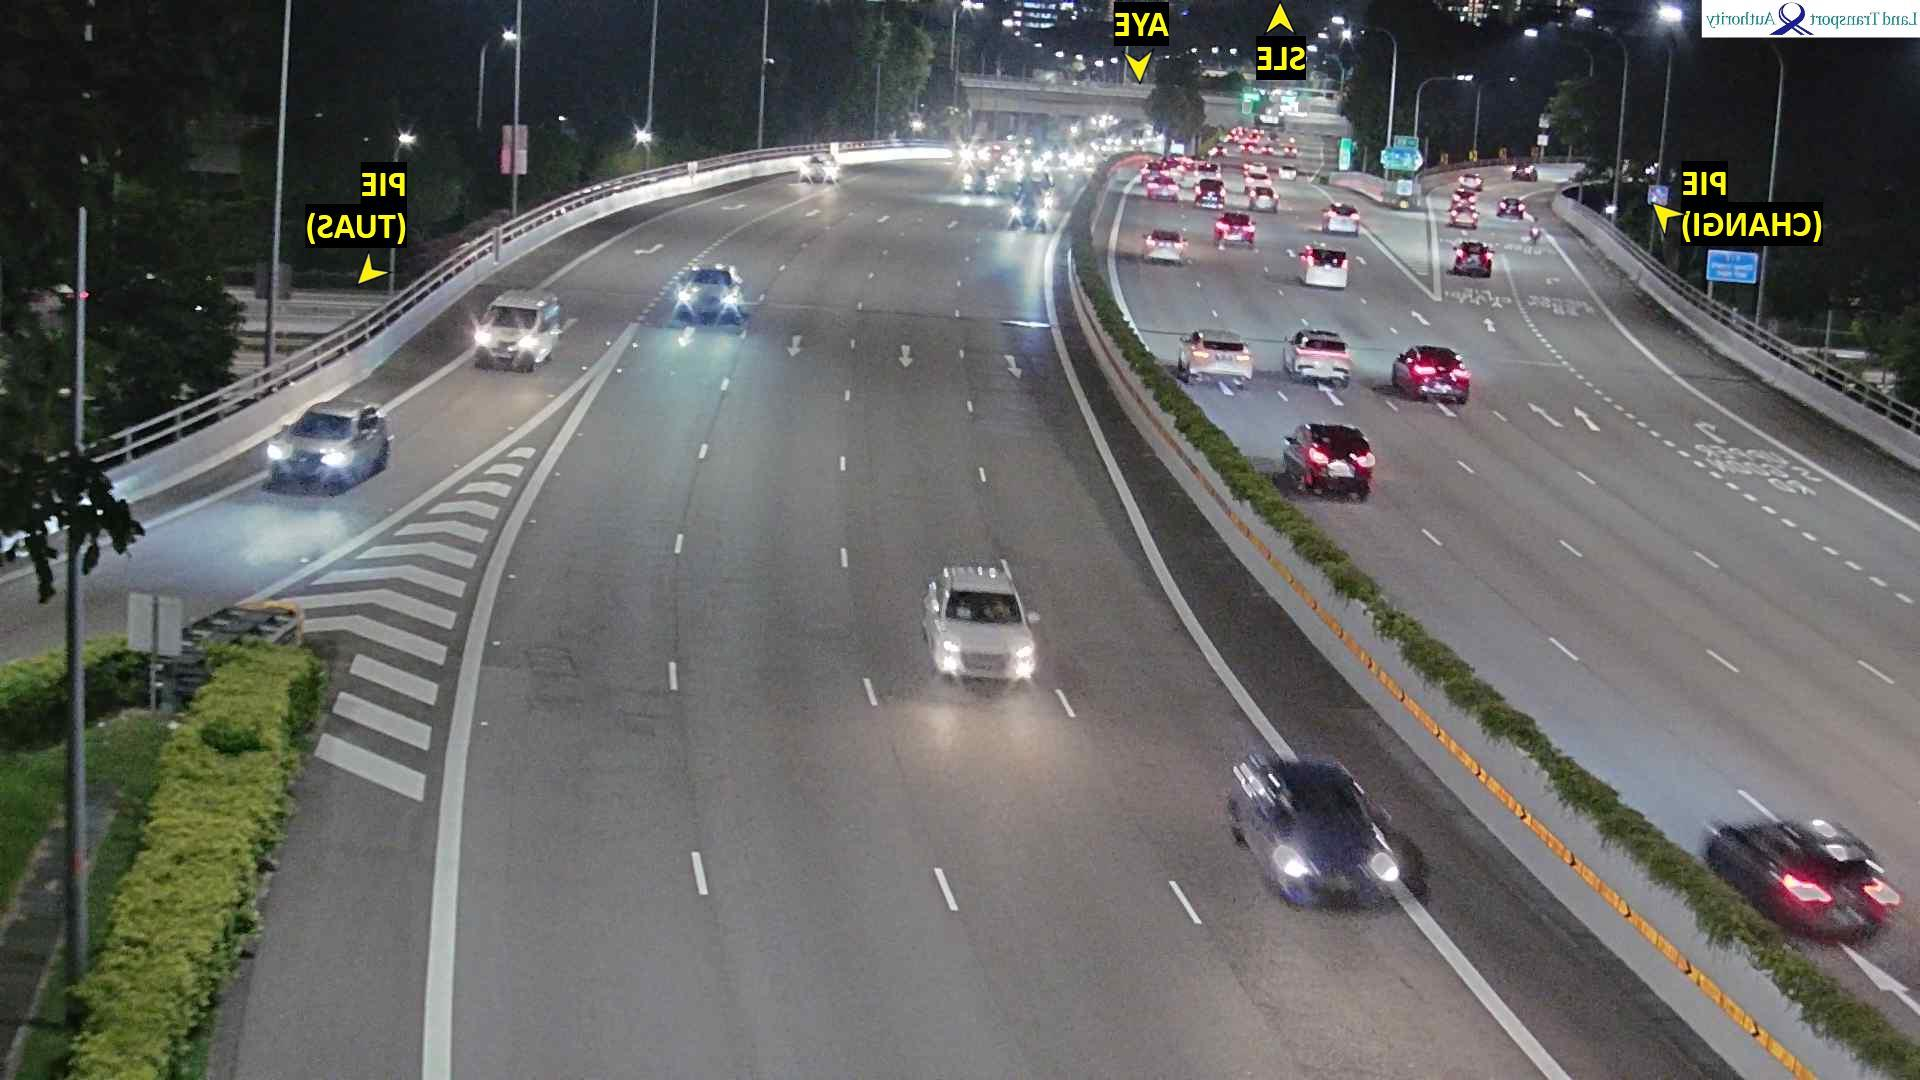cars: (1226, 746, 1403, 909), (1705, 815, 1903, 943), (922, 558, 1040, 684), (266, 398, 396, 495), (473, 287, 564, 372), (1282, 419, 1377, 498), (186, 597, 305, 649), (1178, 327, 1255, 389), (1393, 344, 1472, 404), (675, 262, 746, 326), (1283, 327, 1353, 388), (1299, 241, 1350, 287), (1451, 237, 1495, 277), (1143, 227, 1189, 265), (1213, 210, 1258, 248), (957, 165, 1000, 200), (1013, 167, 1058, 200), (1009, 199, 1052, 231), (1323, 200, 1362, 235), (799, 152, 840, 185), (1195, 177, 1226, 208), (1146, 171, 1180, 200), (1448, 198, 1480, 228), (1249, 183, 1280, 212), (1191, 158, 1224, 185), (1240, 170, 1274, 195), (953, 144, 992, 165), (1497, 195, 1528, 218), (1457, 170, 1485, 193), (1511, 160, 1540, 181), (1182, 150, 1208, 173), (1042, 144, 1068, 164), (1017, 154, 1043, 173), (1142, 161, 1166, 181), (1242, 160, 1269, 177), (1276, 164, 1298, 182), (1163, 161, 1185, 178), (1007, 144, 1033, 158), (1162, 150, 1188, 164), (982, 140, 1004, 153), (1265, 131, 1282, 146), (1211, 144, 1228, 158), (1282, 145, 1300, 157), (1222, 132, 1241, 144), (1240, 142, 1255, 153), (1245, 132, 1261, 142), (1261, 145, 1275, 156)
motorcycle: (1526, 212, 1544, 247)
